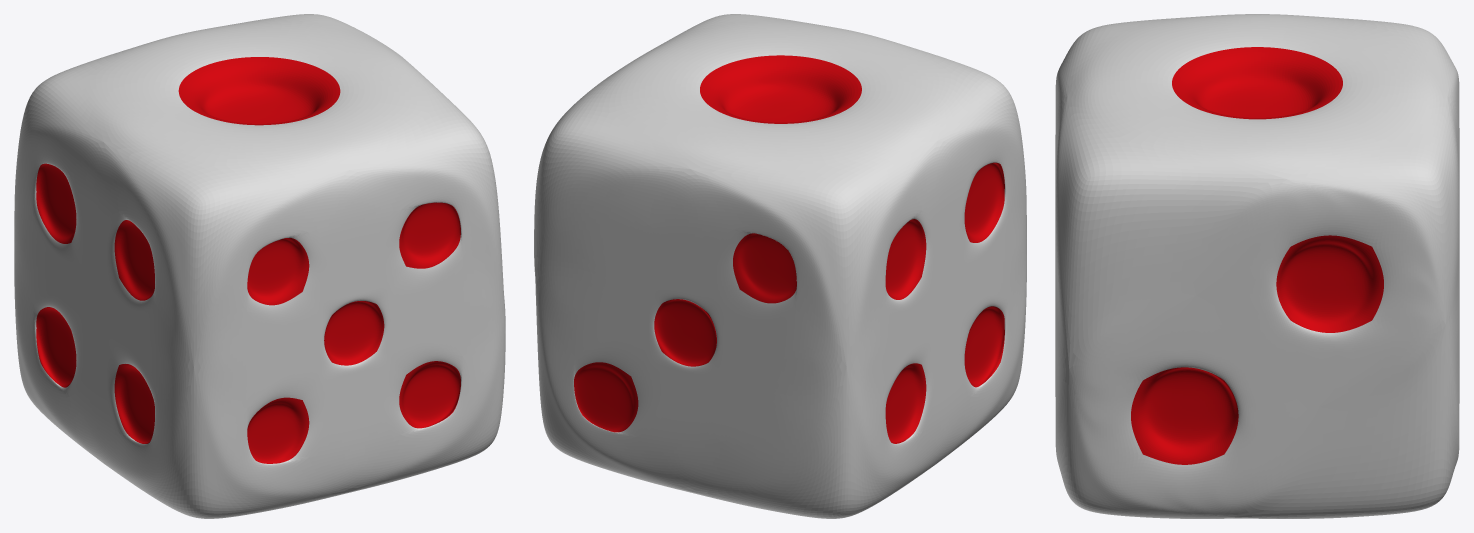
3 views of the same model, side by side, from view 1: azimuth 30°, elevation 25°; view 2: azimuth 150°, elevation 25°; view 3: azimuth 270°, elevation 25° (orthographic). The views are drawn at different scales.
Visible parts, largest first — view 1: 骰子; view 2: 骰子; view 3: 骰子.
Part boxes in pixels (bbox=[...]): 骰子: bbox=[14, 14, 505, 518]; 骰子: bbox=[534, 14, 1026, 518]; 骰子: bbox=[1055, 14, 1459, 518].
Bounding box in the file's own units: 200 × 201 × 200.
